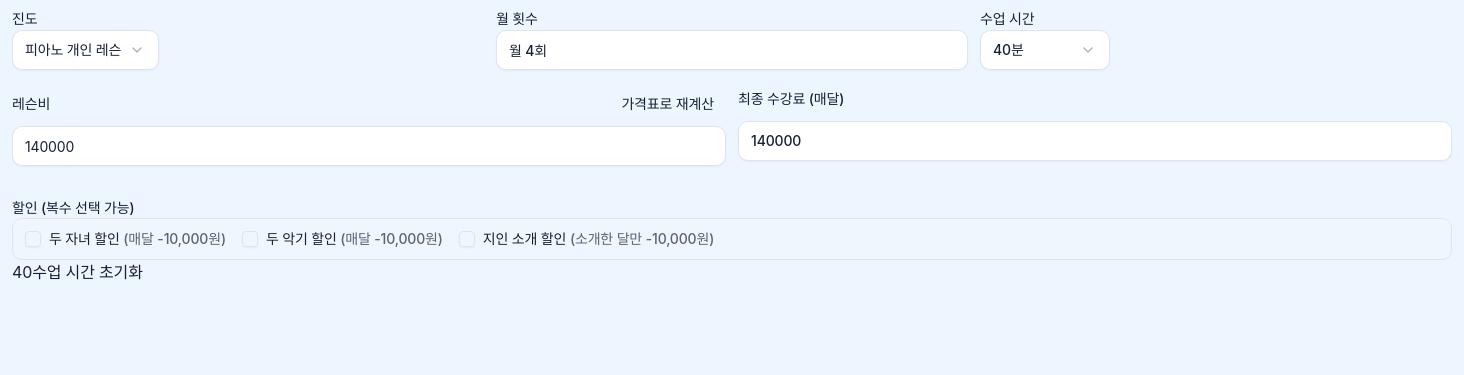
Test: StudentLessonFeeFields › 30분과 직접 입력 수업 시간에서는 레슨비를 직접 받는다
The width and height of the screenshot is (1464, 375).
Select "30분" in the dropdown labelled "수업 시간": (1045, 50) x1=980 y1=30 x2=1110 y2=70
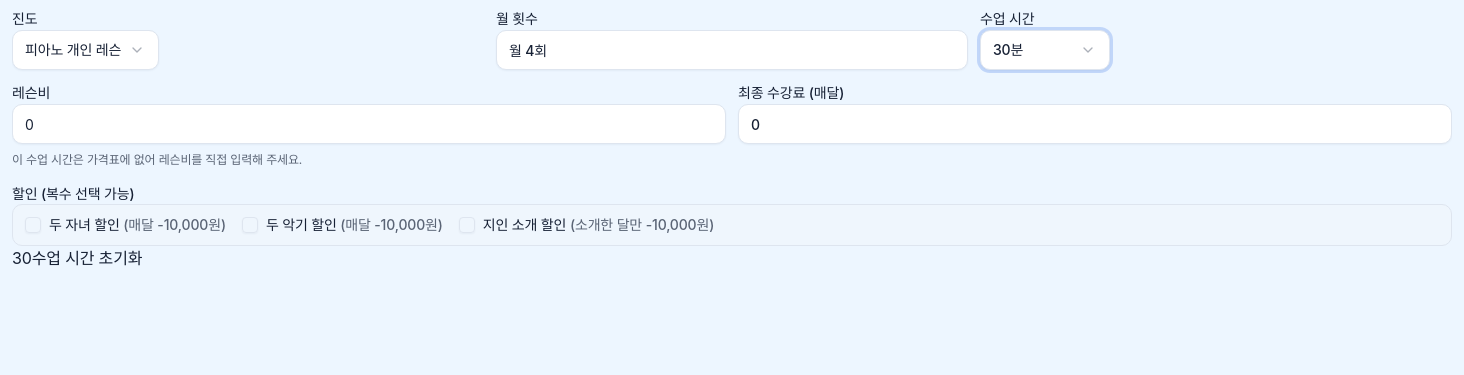
Check: the text named "저장용 수업 시간" reads "30", box x1=12 y1=248 x2=32 y2=268
Check: the text "이 수업 시간은 가격표에 없어 레슨비를 직접 입력해 주세요." is shown, box x1=12 y1=152 x2=302 y2=167
Select "직접 입력" in the dropdown labelled "수업 시간": (1045, 50) x1=980 y1=30 x2=1110 y2=70
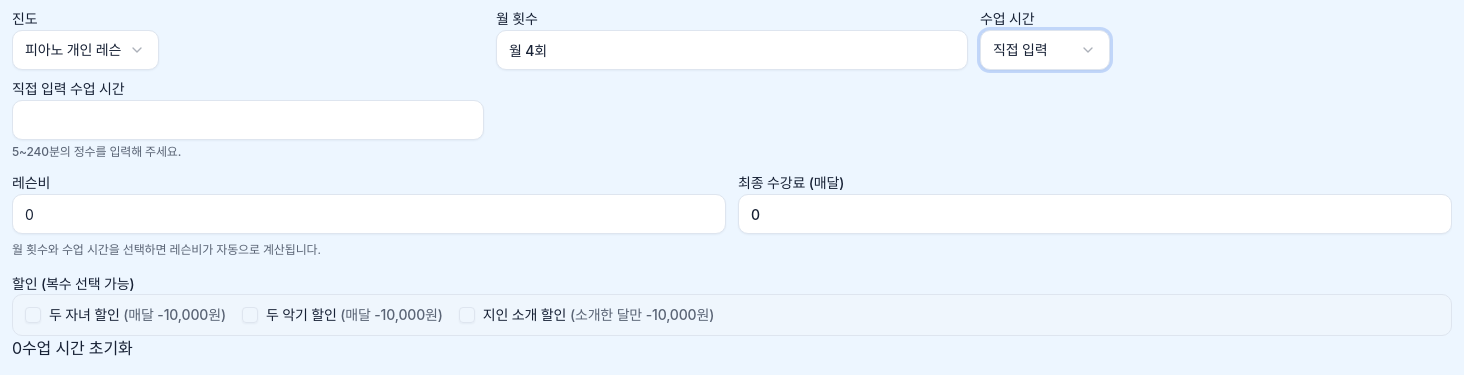
In the field labelled "직접 입력 수업 시간": (248, 120) x1=12 y1=100 x2=484 y2=140, type "45"
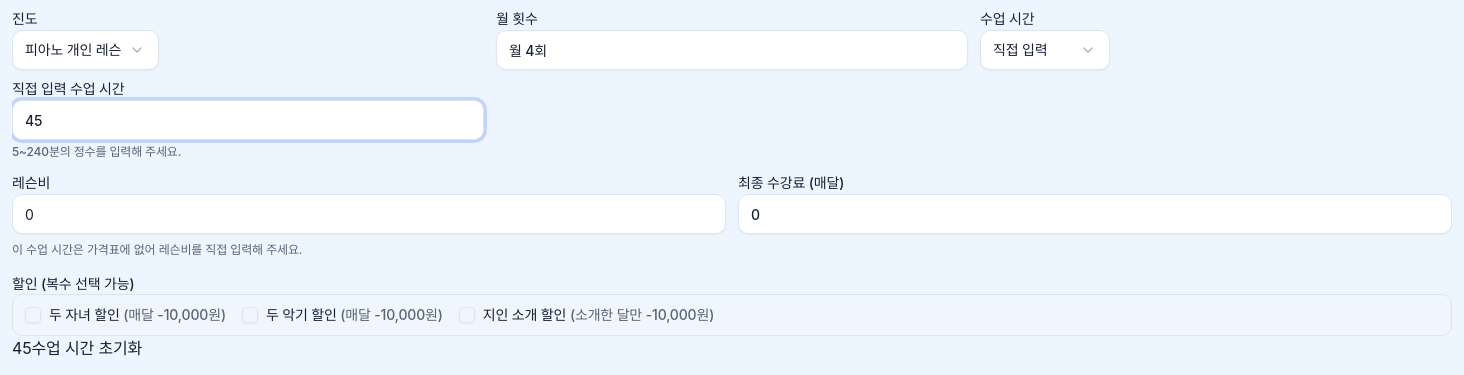
Check: the text named "저장용 수업 시간" reads "45", box x1=12 y1=338 x2=32 y2=358
